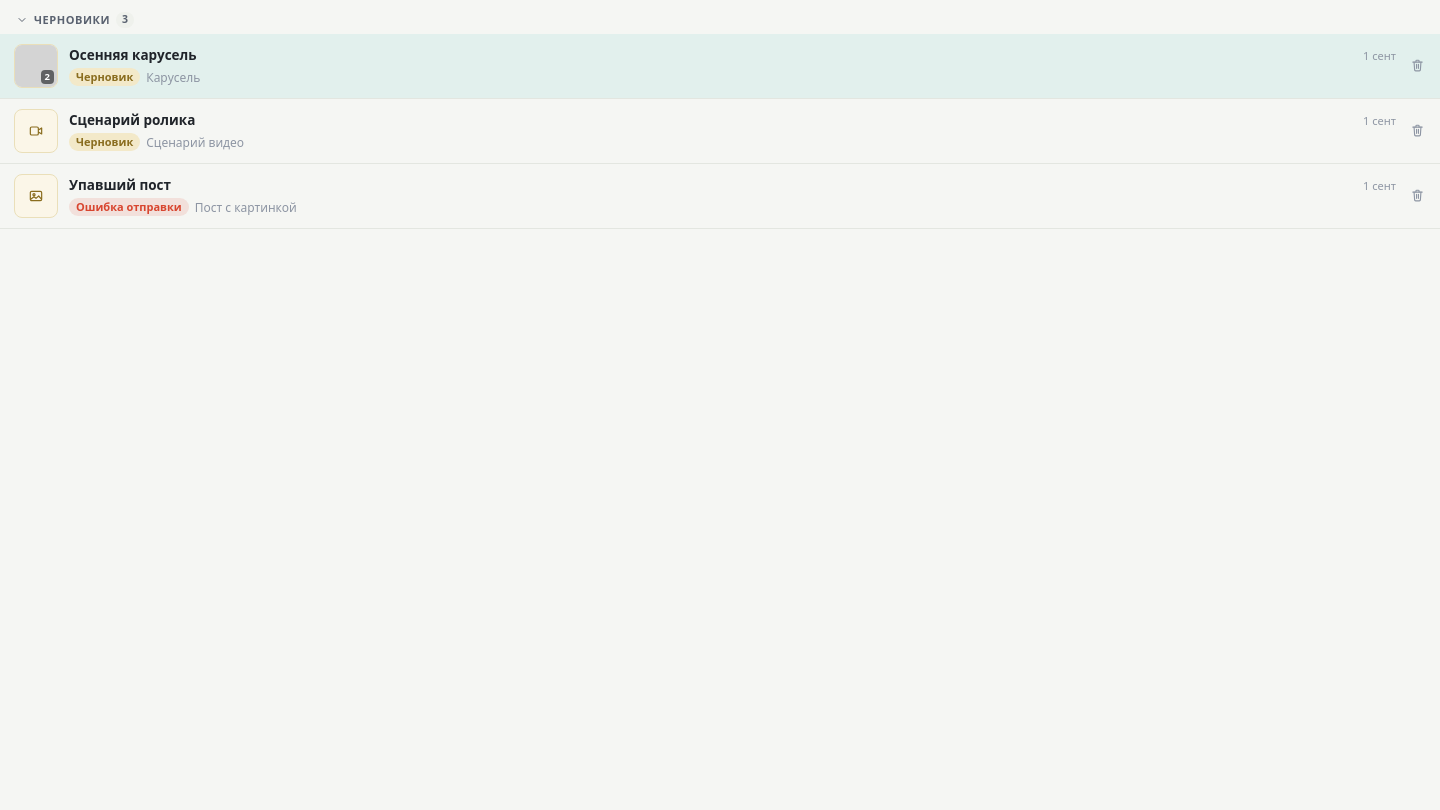
publication drafts list › deletes a draft from the trash icon only after confirmation
The width and height of the screenshot is (1440, 810).
Check: the text "Осенняя карусель" is shown, box [69,46,197,64]
Click the button named "Удалить черновик" in the row of "Осенняя карусель" at (1417, 66), box [1402,51,1432,81]
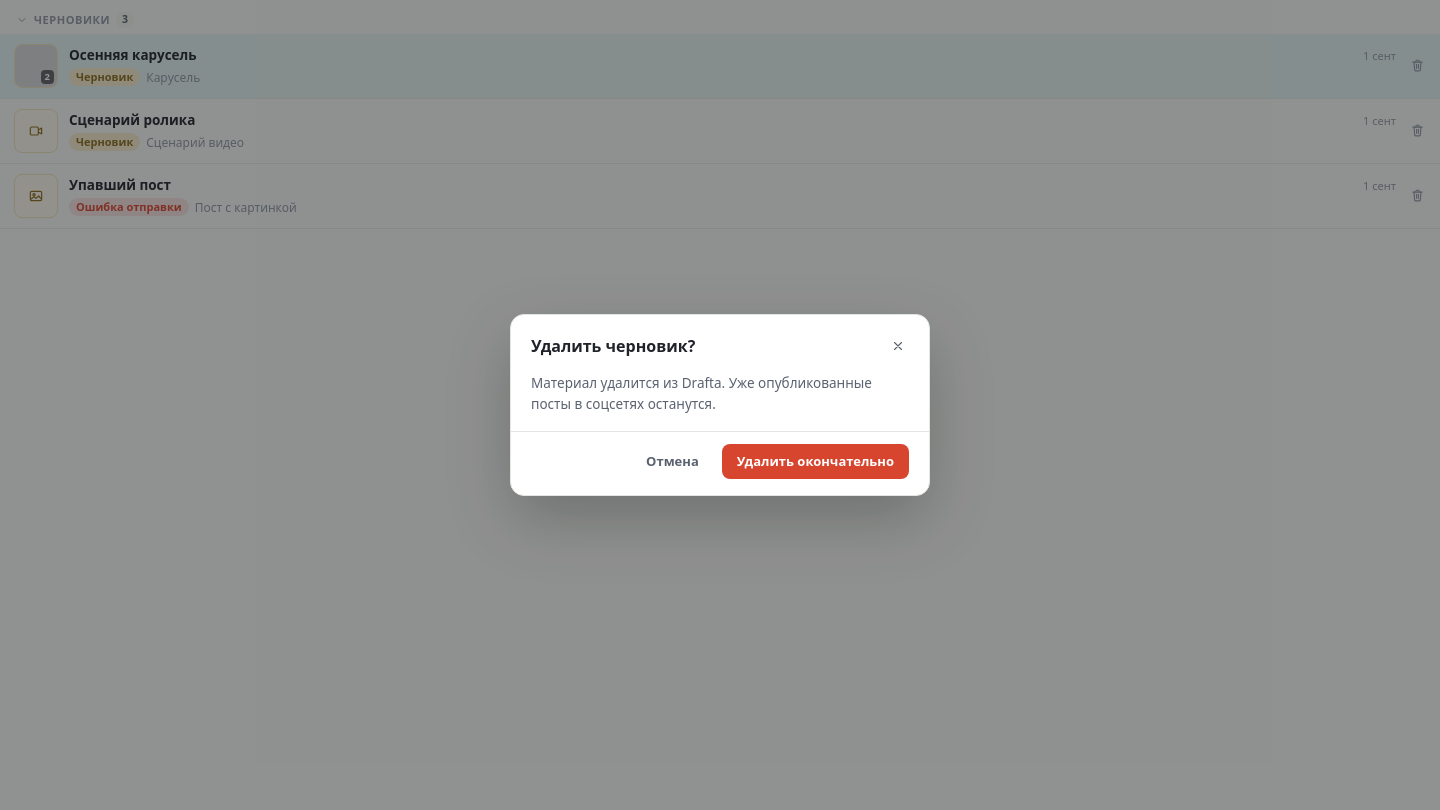
Click the button "Удалить окончательно" at (815, 461), box [722,444,909,479]
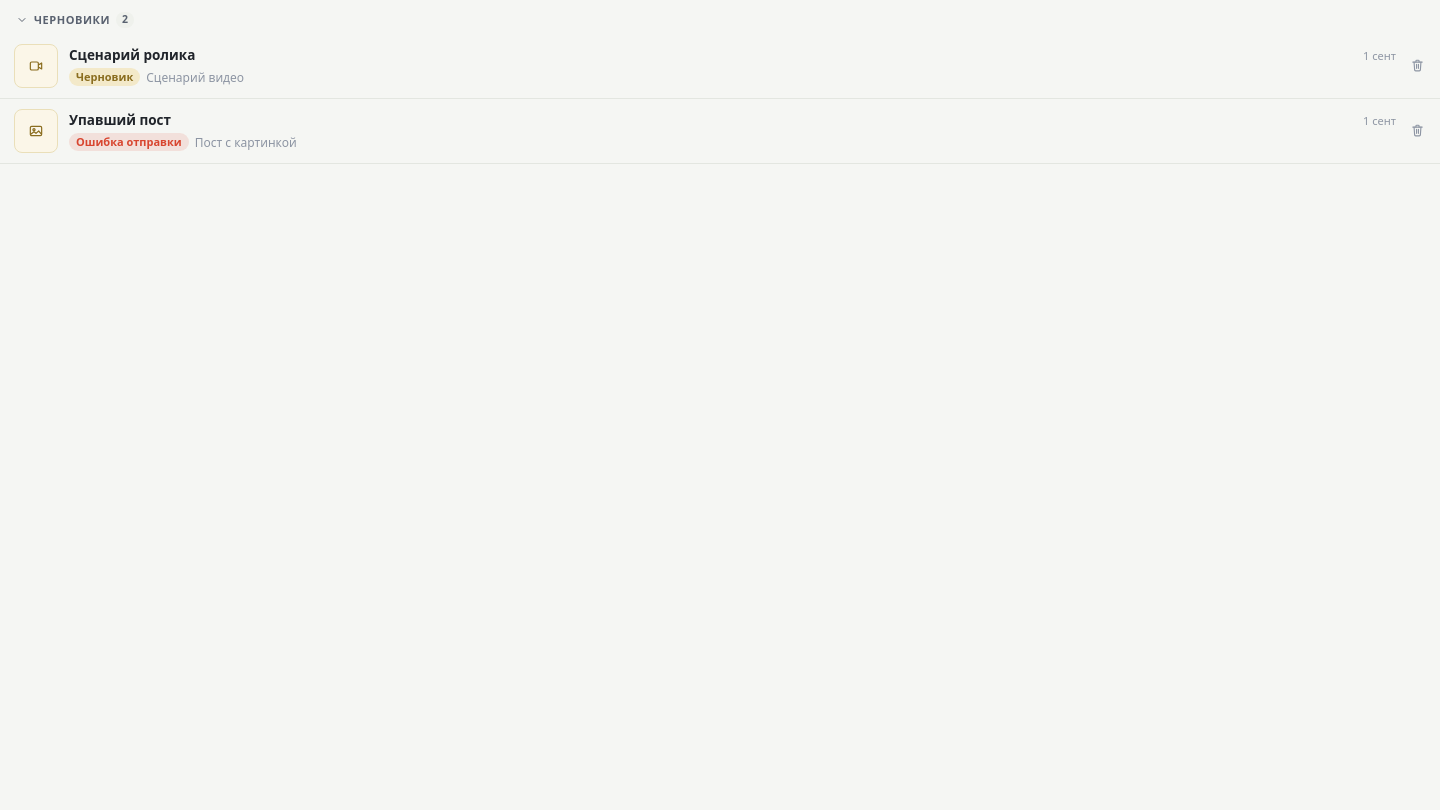
Check: the link "Осенняя карусель" is gone
